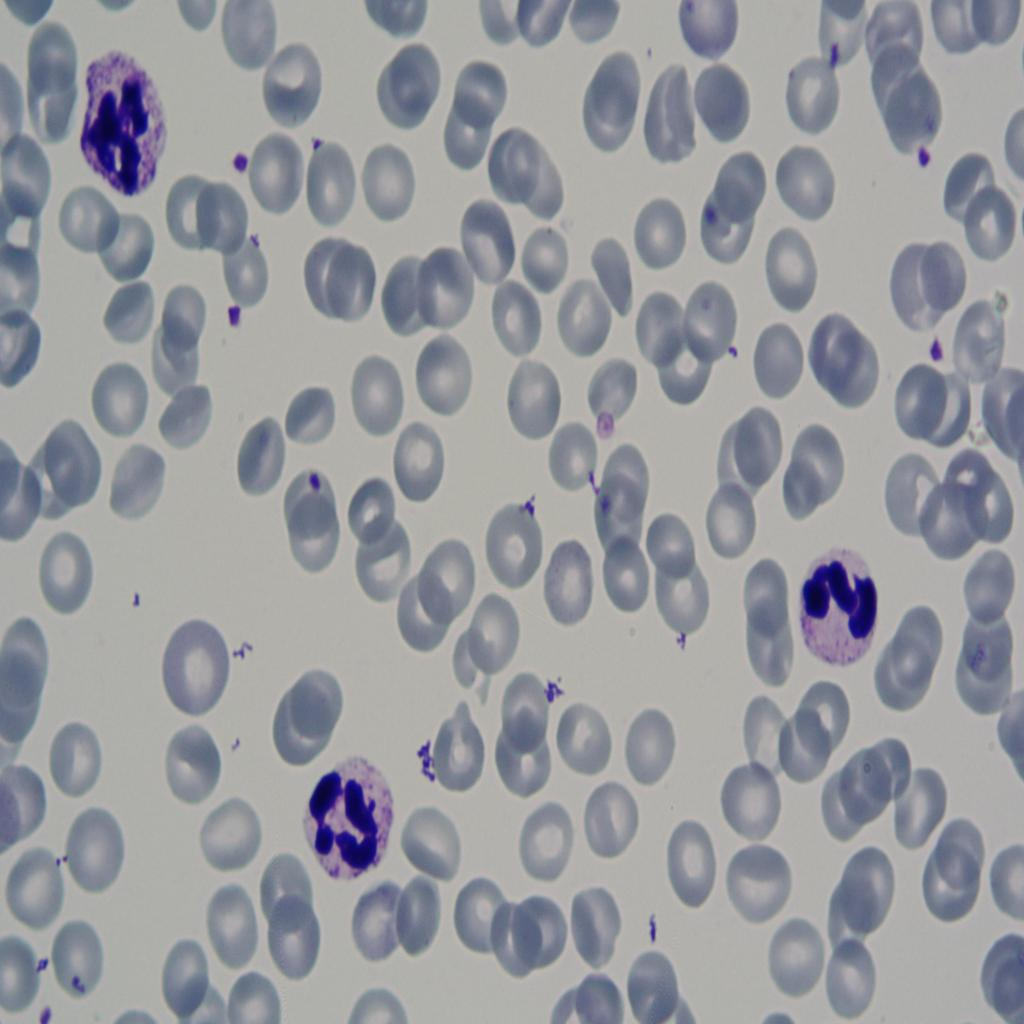Neutrofil: (294, 748, 402, 892), (67, 50, 168, 200), (784, 539, 883, 668)
Platelet: (228, 144, 266, 188), (300, 461, 334, 505), (906, 134, 937, 178), (918, 324, 946, 371), (218, 295, 244, 343), (824, 42, 844, 77), (29, 945, 51, 976), (31, 1002, 62, 1024), (700, 194, 716, 232)
